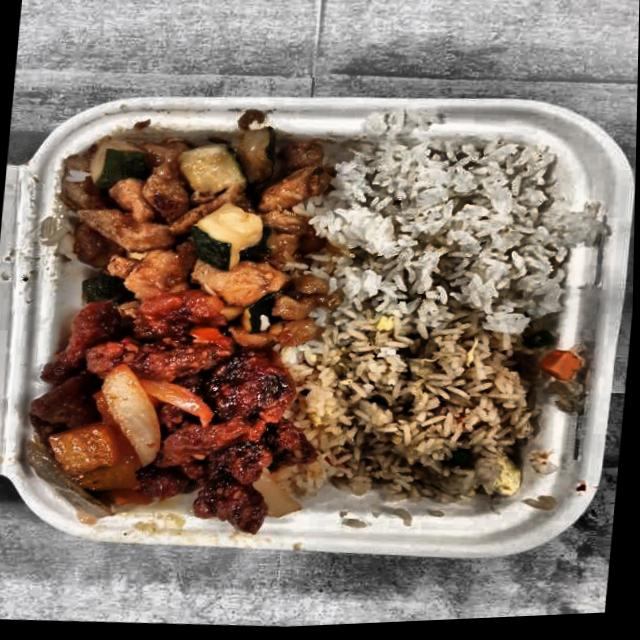Food: (14, 302, 330, 542), (314, 114, 597, 336), (42, 111, 330, 324), (302, 309, 563, 524)
